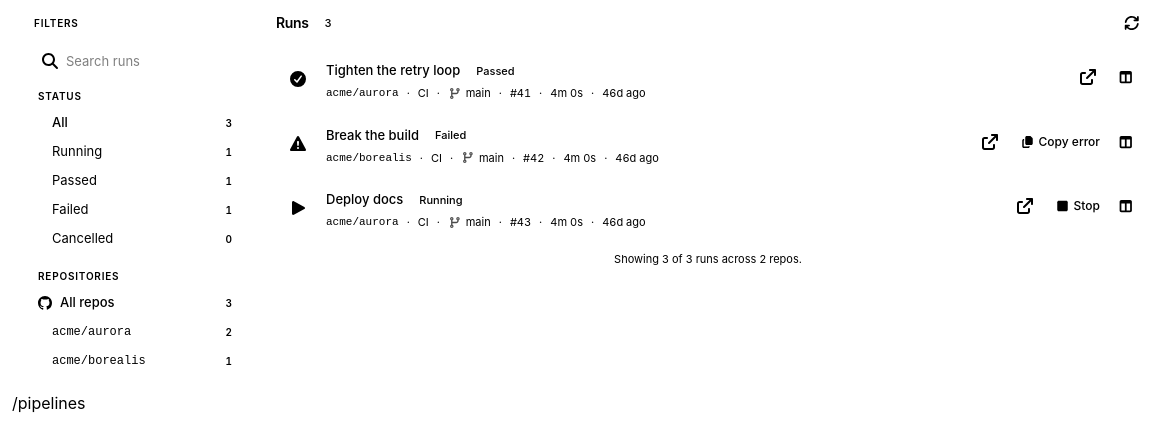
Scenario: PipelinesPage run list › filters by search text and says so when nothing matches
Expected: the text "Tighten the retry loop" is shown, [326,62,460,80]
In the field with placeholder "Search runs": coordinates (153, 61) [66,45,240,77], type "docs"
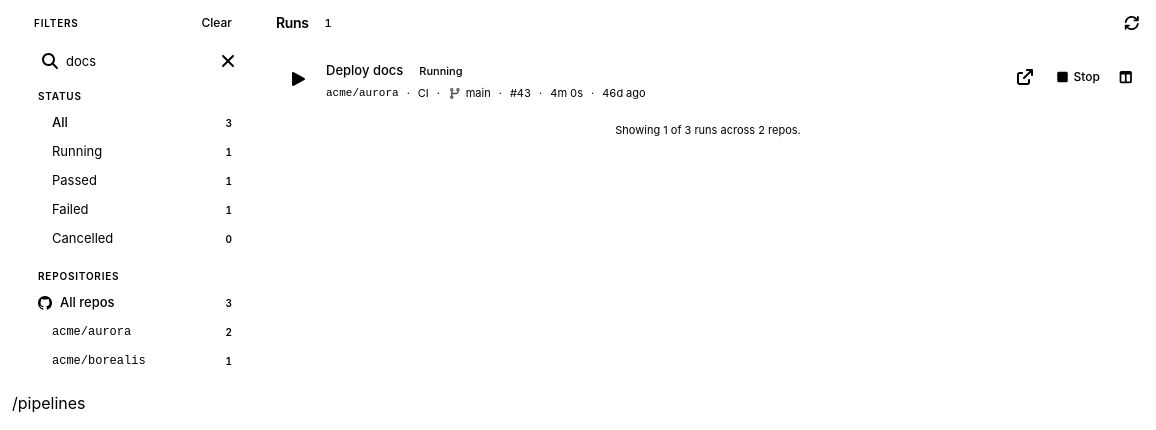
Expected: the text "Deploy docs" is shown, [326,62,403,80]
Result: the button "Break the build" is gone
Clear the field with placeholder "Search runs": coordinates (138, 61) [66,45,210,77]
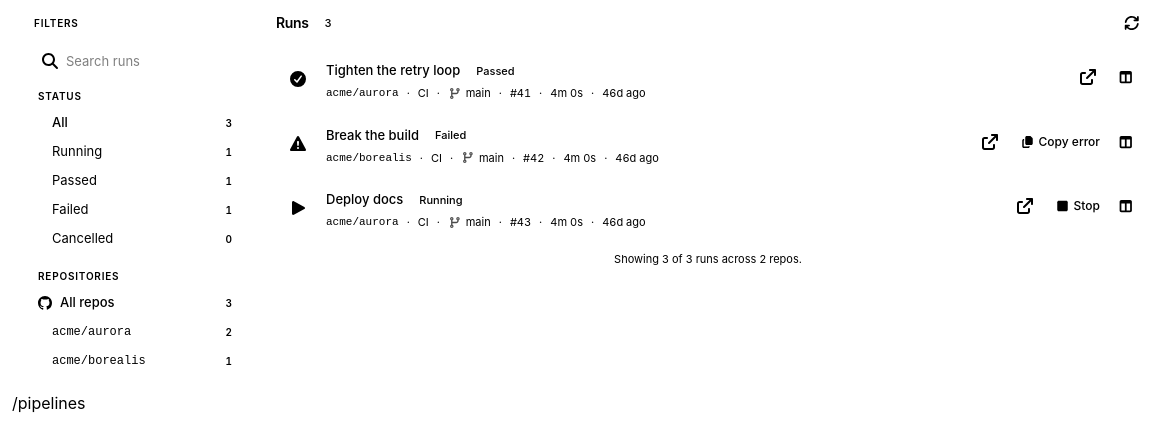
In the field with placeholder "Search runs": coordinates (153, 61) [66,45,240,77], type "nothing like this"
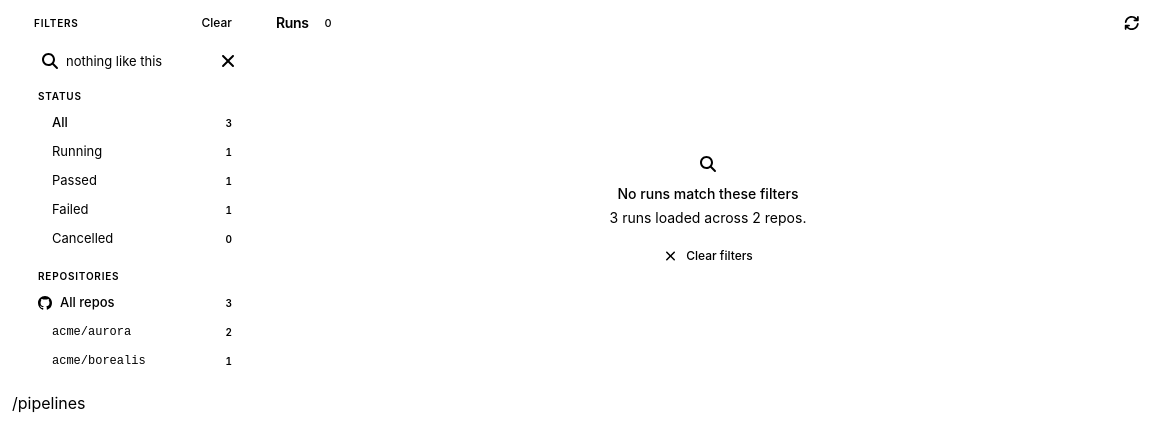
Result: the text "No runs match these filters" is shown at [610,184,806,204]
Result: the text "3 runs loaded across 2 repos." is shown at [610,208,806,228]
